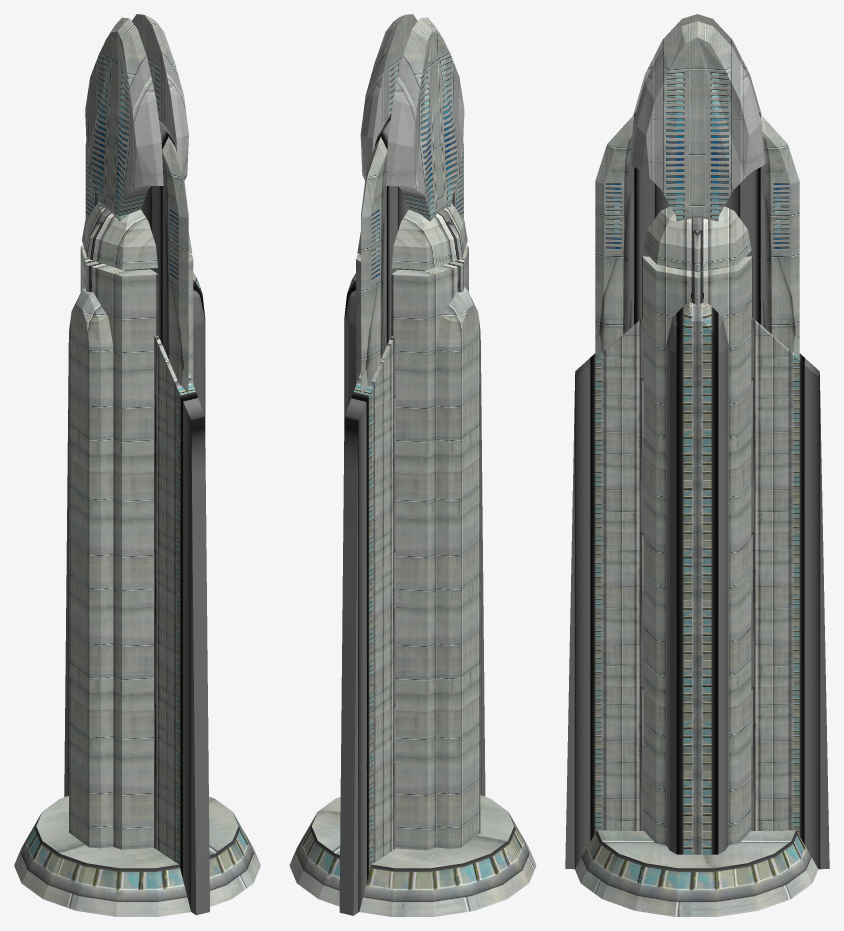
File: eaw_corBuild6.glb
The picture shows the model from 3 angles, left to right: view 1: azimuth 30°, elevation 25°; view 2: azimuth 150°, elevation 25°; view 3: azimuth 270°, elevation 25°; orthographic projection.
Visible parts, largest first — view 1: W_Urban_CorBuild_E_0; view 2: W_Urban_CorBuild_E_0; view 3: W_Urban_CorBuild_E_0.
Boxes of the visible parts, bbox=[...] form: W_Urban_CorBuild_E_0: bbox=[14, 14, 260, 916]; W_Urban_CorBuild_E_0: bbox=[289, 14, 536, 916]; W_Urban_CorBuild_E_0: bbox=[565, 14, 829, 916].
Bounding box in the file's own units: 12.11 × 46.64 × 13.17.
1 material, 1 textured.
